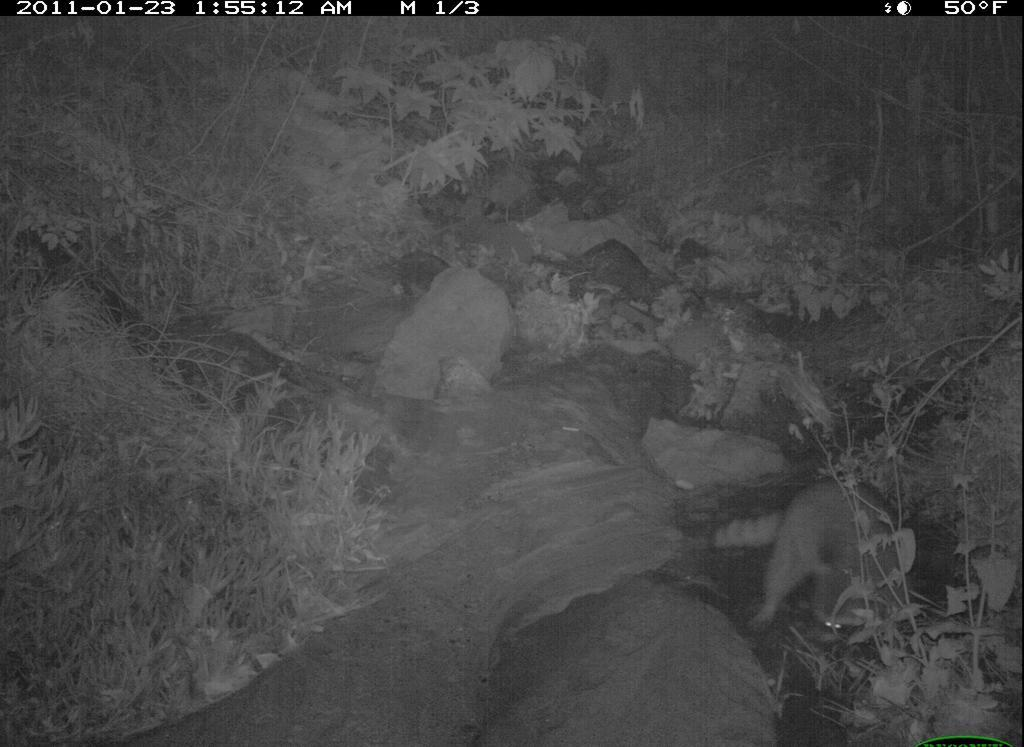raccoon: (707, 468, 929, 660)
